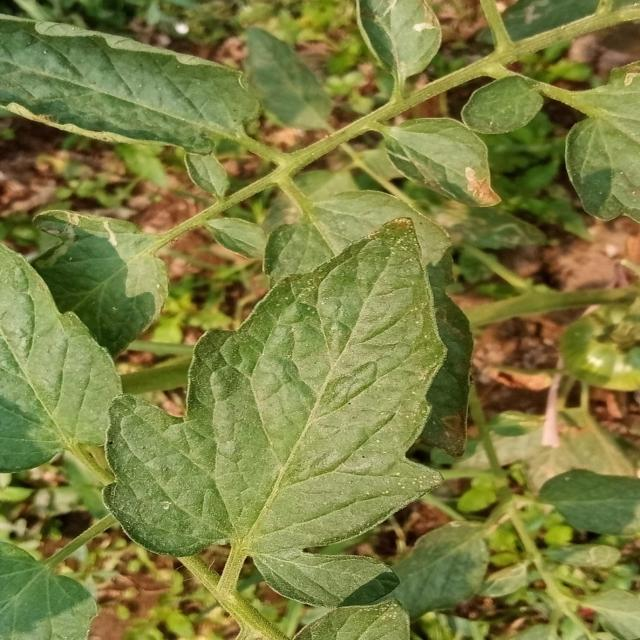Healthy: (59, 198, 566, 640), (0, 13, 267, 162), (0, 245, 120, 472), (454, 67, 549, 148)
